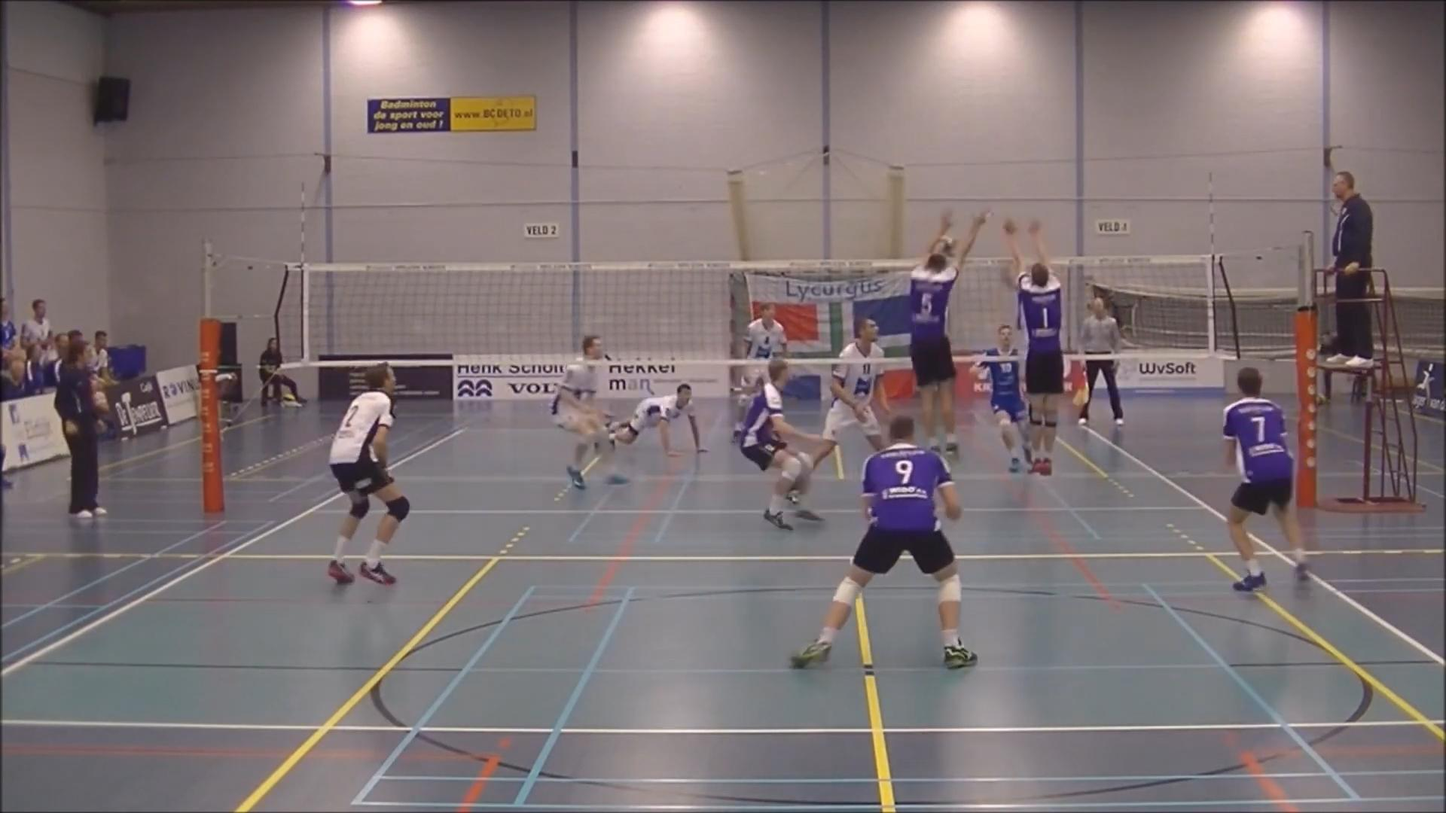Block: (894, 203, 991, 464), (998, 210, 1085, 483)
Player: (792, 416, 977, 668), (1224, 367, 1307, 591), (328, 364, 410, 585), (738, 358, 821, 530), (814, 318, 889, 470), (550, 335, 614, 489), (975, 324, 1031, 470), (733, 303, 786, 441), (614, 383, 706, 456)
